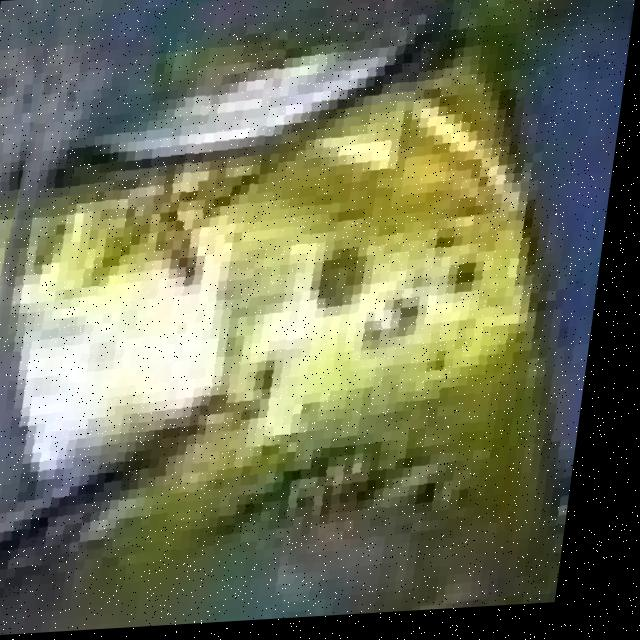litter: (20, 0, 586, 636)
